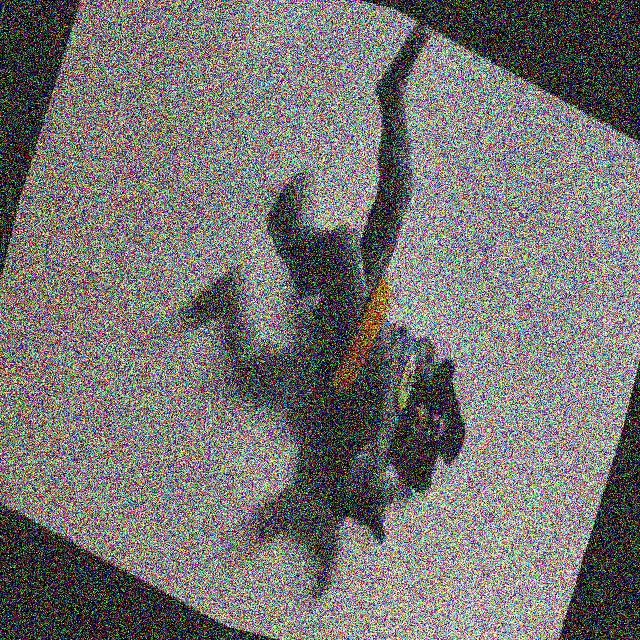Batman: (172, 0, 585, 620)
